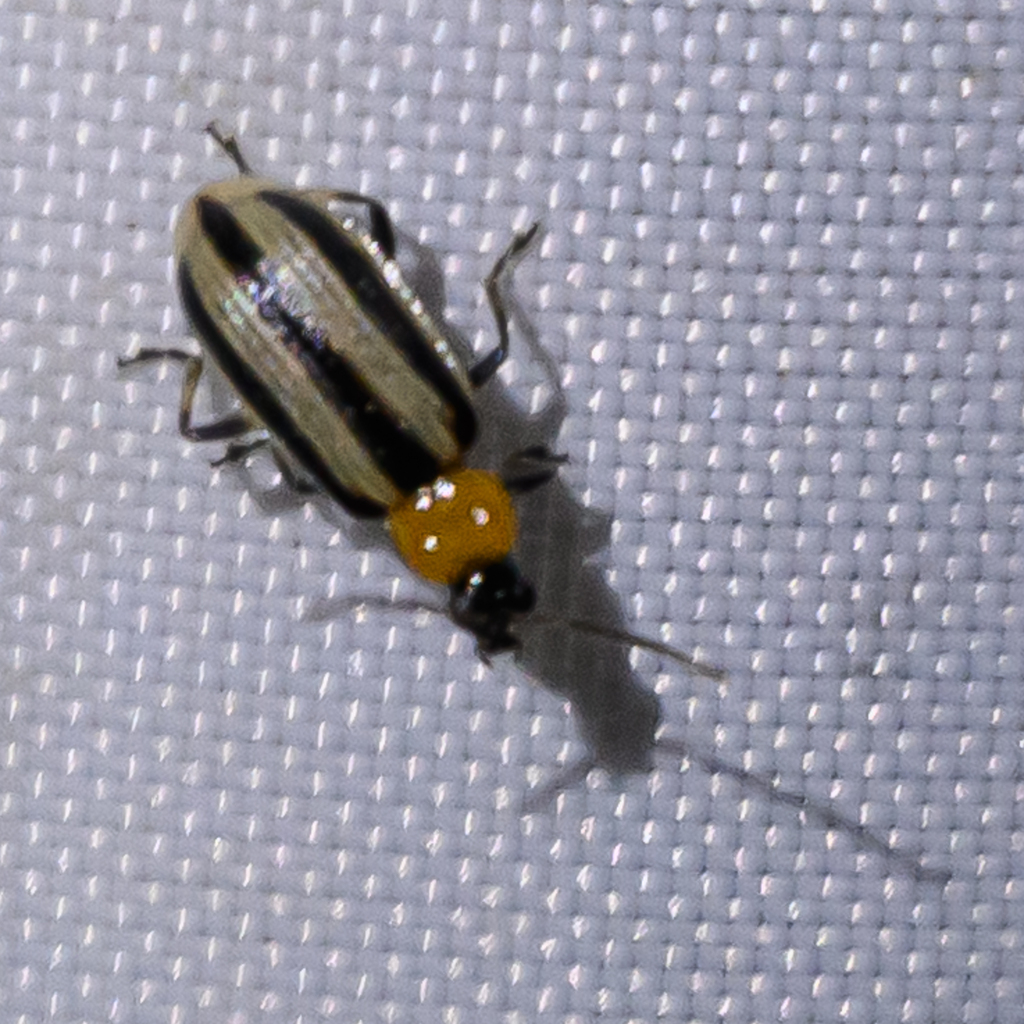potato_beetle: (0, 0, 795, 779)
